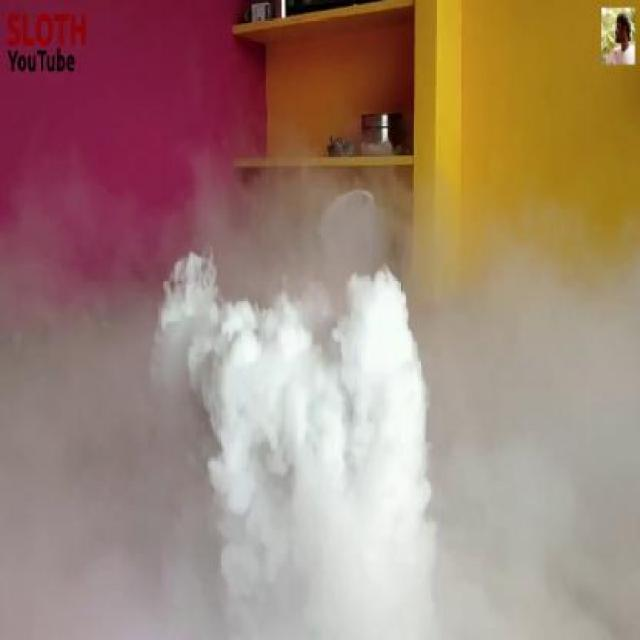smoke: (150, 223, 526, 617)
